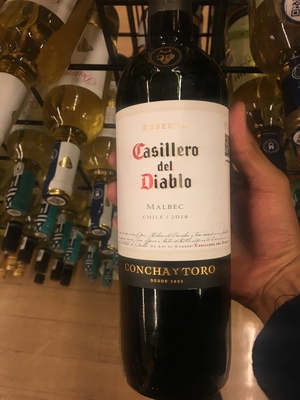casillero del diablo malbec: (103, 15, 240, 400)
